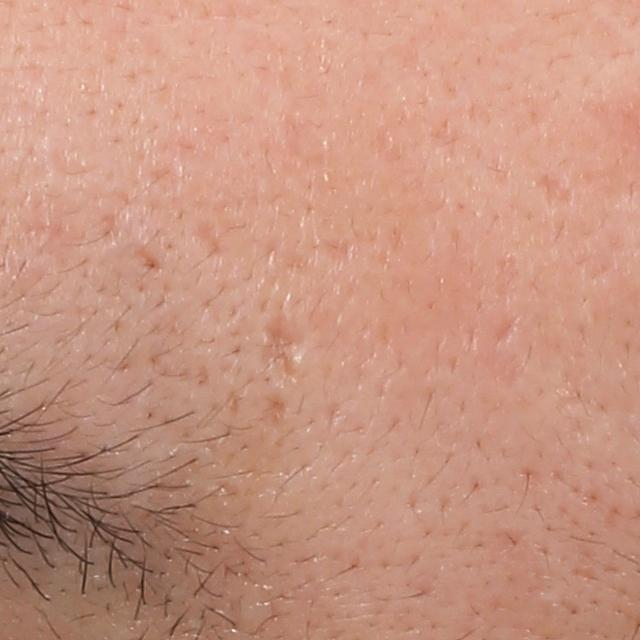atrophic_scar: (260, 317, 306, 391), (533, 175, 577, 212), (488, 310, 526, 351), (192, 220, 226, 262), (267, 396, 290, 427)
